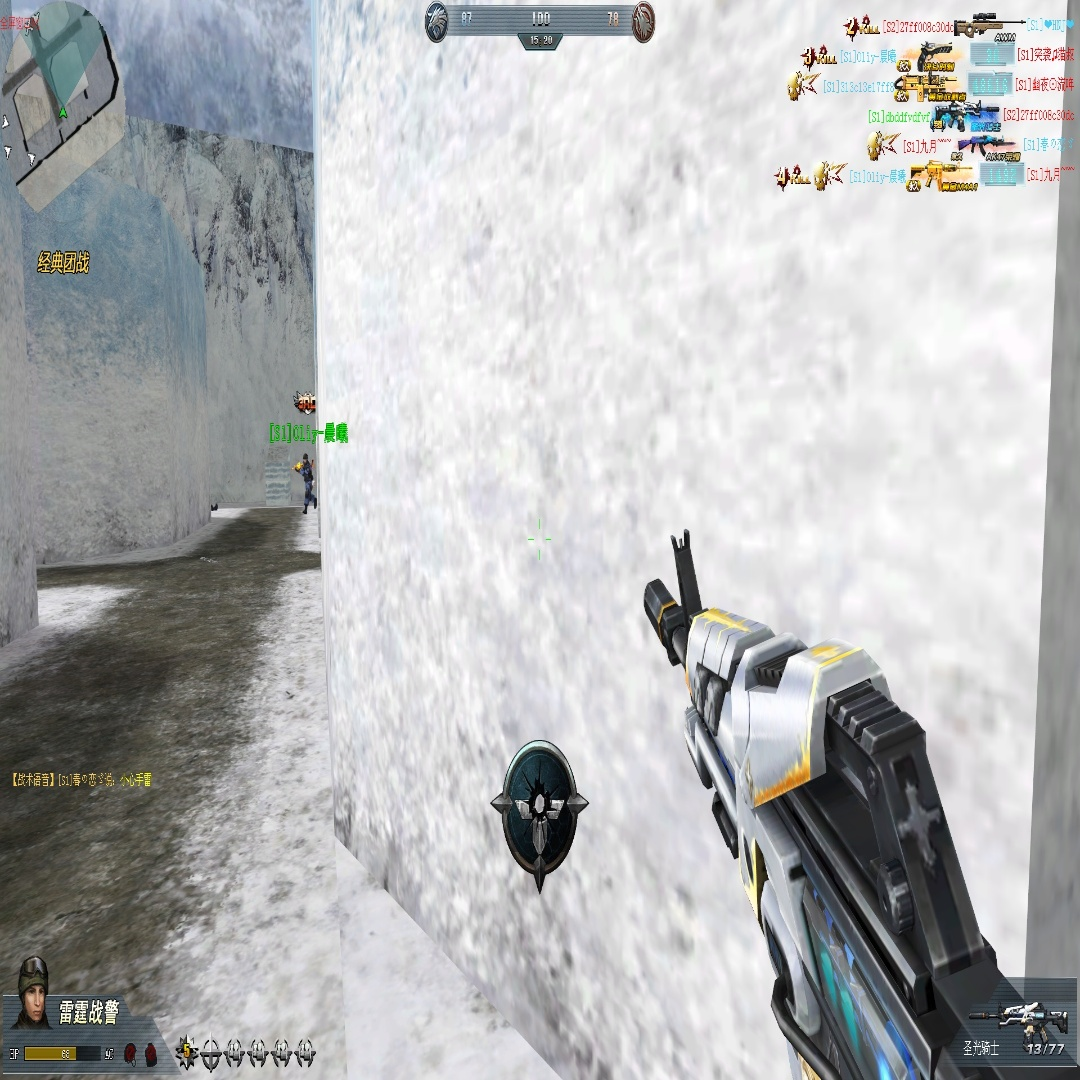ct: (299, 452, 316, 513)
